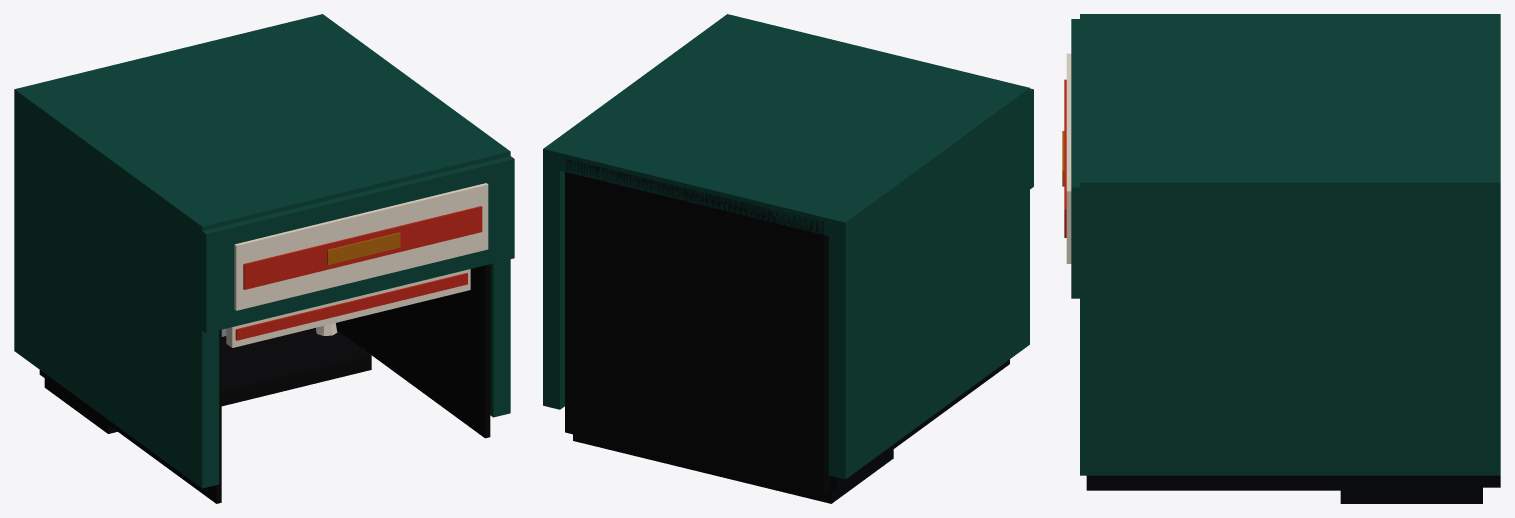
Rendered from cozy_bowling_pinsetter.obj.
3 renders of one model, left to right at view 1: azimuth 30°, elevation 25°; view 2: azimuth 150°, elevation 25°; view 3: azimuth 270°, elevation 25°, orthographic. The views are drawn at different scales.
Parts seen in each view (by area): view 1: Pinsetter_Mesh; view 2: Pinsetter_Mesh; view 3: Pinsetter_Mesh.
Part boxes in pixels (left/top/right/bottom): Pinsetter_Mesh: left=14, top=14, right=514, bottom=503; Pinsetter_Mesh: left=543, top=14, right=1033, bottom=503; Pinsetter_Mesh: left=1062, top=14, right=1500, bottom=503.
Size of the model in its own units: 1.79 by 1.65 by 1.97.
